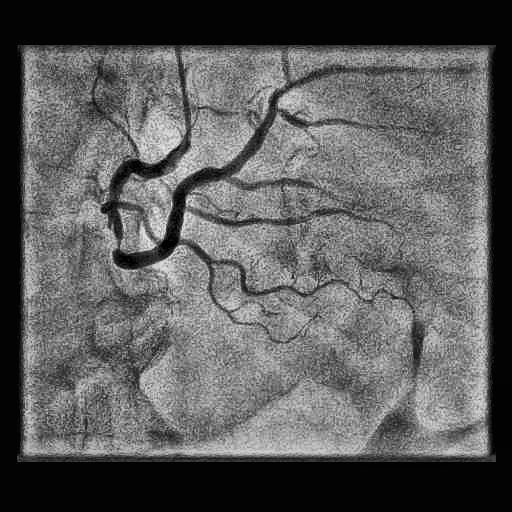pborca: (173, 64, 409, 204)
pda: (187, 207, 392, 230)
rca: (101, 147, 185, 269)
